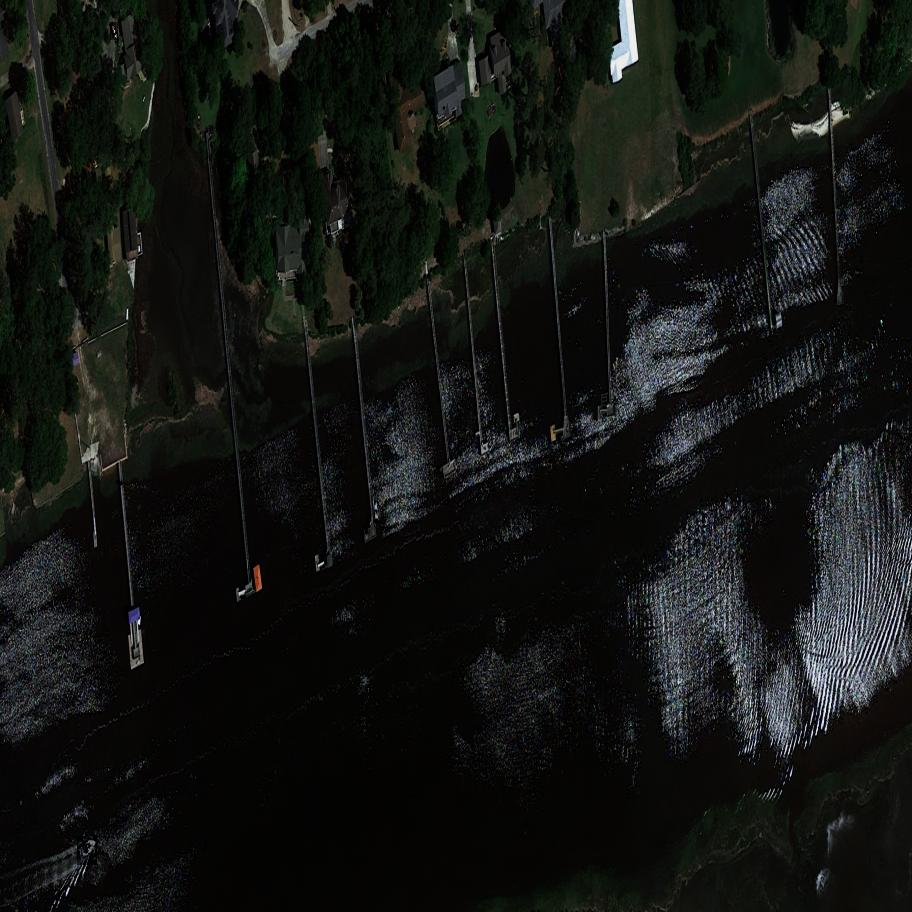ship: (73, 837, 103, 865), (375, 502, 378, 523)
small-vehicle: (109, 22, 119, 40)
